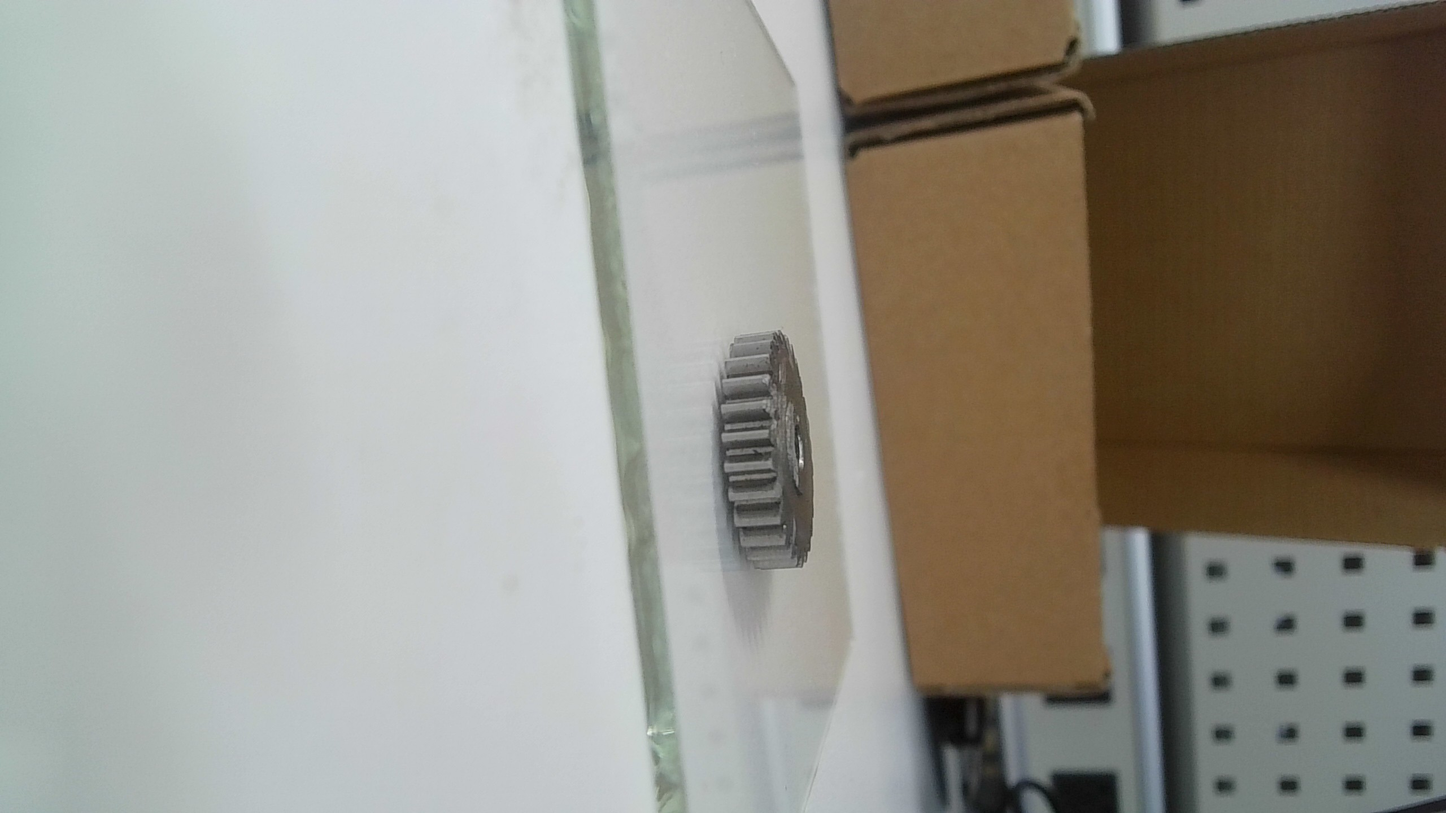gear: (720, 330, 824, 576)
